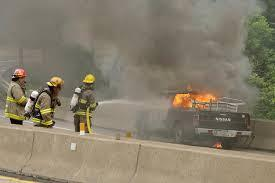fire: (171, 83, 219, 109)
